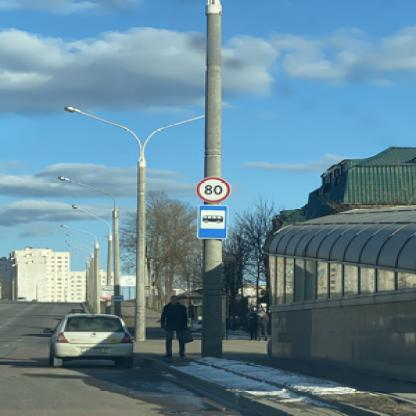speedlimit: (194, 176, 229, 202)
